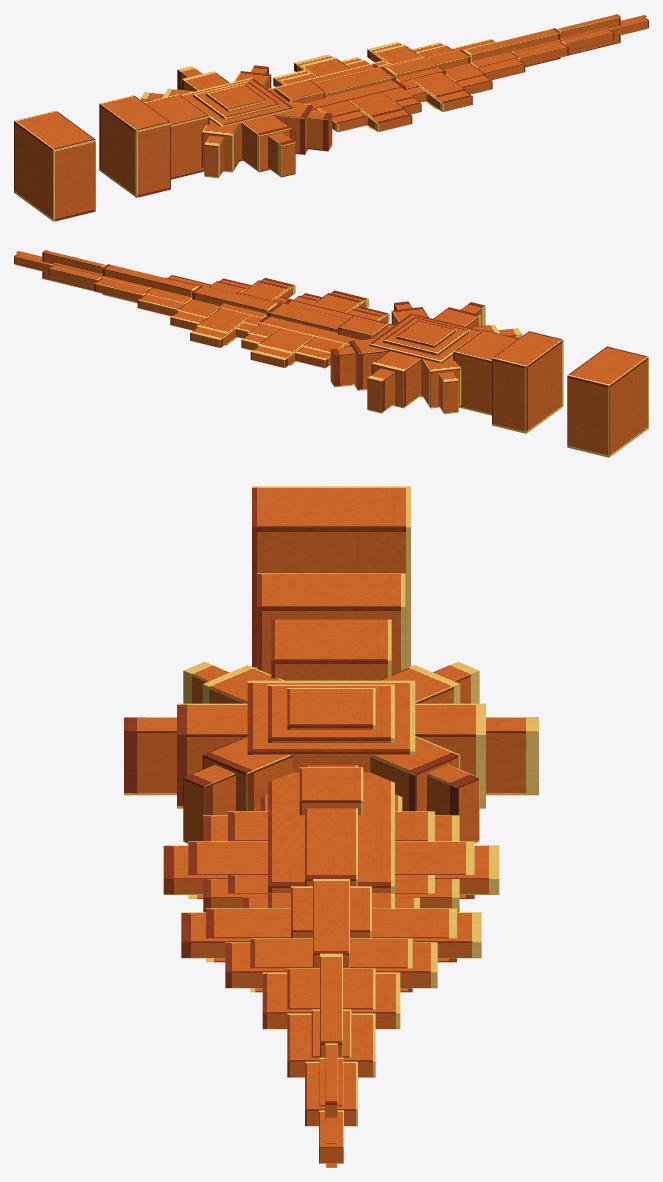
Rendered from bench_spear_1_hot.obj.
3 renders of one model, top to bottom at view 1: azimuth 30°, elevation 25°; view 2: azimuth 150°, elevation 25°; view 3: azimuth 270°, elevation 25°, orthographic. The views are drawn at different scales.
Parts seen in each view (by area): view 1: geometry; view 2: geometry; view 3: geometry.
Part boxes in pixels (x1=…): geometry: x1=14, y1=14, x2=648, y2=221; geometry: x1=14, y1=250, x2=648, y2=457; geometry: x1=124, y1=486, x2=538, y2=1167.
Bounding box in the file's own units: 0.75 × 0.0844 × 0.2203.
